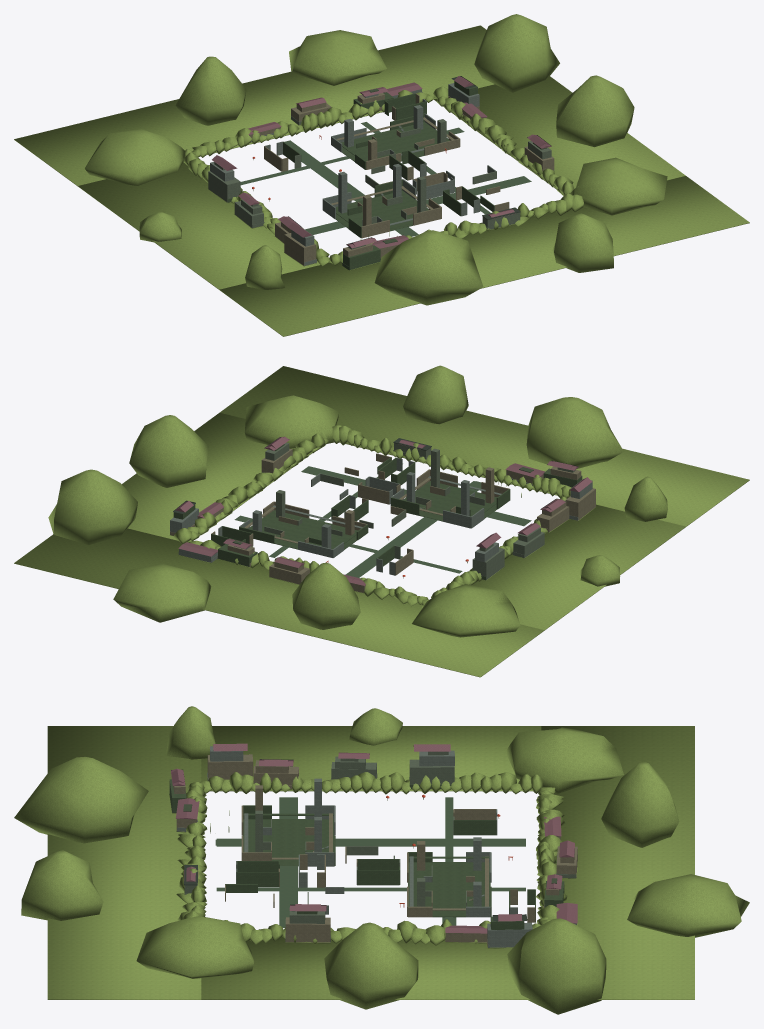
File: chikurin-lod2.glb
3 renders of one model, top to bottom at view 1: azimuth 30°, elevation 25°; view 2: azimuth 150°, elevation 25°; view 3: azimuth 270°, elevation 25°, orthographic. The views are drawn at different scales.
Parts seen in each view (by area): view 1: HB_chikurin_LOD2_terrain, HB_chikurin_LOD2_wall_warm, HB_chikurin_LOD2_wall_weathered, HB_chikurin_LOD2_road, HB_chikurin_LOD2_wall, HB_chikurin_LOD2_roof, HB_chikurin_LOD2_LANDMARK_1_wall_weathered, HB_chikurin_LOD2_wall_cool, HB_chikurin_LOD2_LANDMARK_0_wall_weathered, HB_chikurin_LOD2_LANDMARK_0_wall_warm, HB_chikurin_LOD2_LANDMARK_1_wall_warm, HB_chikurin_LOD2_LANDMARK_0_wall_cool (+2 smaller); view 2: HB_chikurin_LOD2_terrain, HB_chikurin_LOD2_wall_warm, HB_chikurin_LOD2_wall_weathered, HB_chikurin_LOD2_roof, HB_chikurin_LOD2_road, HB_chikurin_LOD2_wall, HB_chikurin_LOD2_LANDMARK_1_wall_weathered, HB_chikurin_LOD2_wall_cool, HB_chikurin_LOD2_LANDMARK_0_wall_weathered, HB_chikurin_LOD2_LANDMARK_0_wall_cool, HB_chikurin_LOD2_LANDMARK_0_wall_warm, HB_chikurin_LOD2_LANDMARK_1_wall_cool (+2 smaller); view 3: HB_chikurin_LOD2_terrain, HB_chikurin_LOD2_wall_warm, HB_chikurin_LOD2_road, HB_chikurin_LOD2_wall_weathered, HB_chikurin_LOD2_roof, HB_chikurin_LOD2_LANDMARK_1_wall_weathered, HB_chikurin_LOD2_LANDMARK_0_wall_weathered, HB_chikurin_LOD2_wall, HB_chikurin_LOD2_wall_cool, HB_chikurin_LOD2_LANDMARK_0_wall_cool, HB_chikurin_LOD2_LANDMARK_1_wall_cool, HB_chikurin_LOD2_LANDMARK_1_wall_warm (+1 smaller).
Part boxes in pixels (x1,y1,x2,y2): HB_chikurin_LOD2_terrain: (14, 14, 749, 336); HB_chikurin_LOD2_wall_warm: (249, 93, 554, 265); HB_chikurin_LOD2_wall_weathered: (227, 81, 546, 270); HB_chikurin_LOD2_road: (240, 122, 531, 236); HB_chikurin_LOD2_wall: (208, 116, 554, 249); HB_chikurin_LOD2_roof: (212, 76, 551, 248); HB_chikurin_LOD2_LANDMARK_1_wall_weathered: (336, 113, 449, 169); HB_chikurin_LOD2_wall_cool: (210, 83, 496, 265); HB_chikurin_LOD2_LANDMARK_0_wall_weathered: (335, 179, 428, 238); HB_chikurin_LOD2_LANDMARK_0_wall_warm: (331, 186, 441, 238); HB_chikurin_LOD2_LANDMARK_1_wall_warm: (336, 117, 460, 169); HB_chikurin_LOD2_LANDMARK_0_wall_cool: (322, 164, 415, 225); HB_chikurin_LOD2_terrain: (14, 365, 749, 677); HB_chikurin_LOD2_wall_warm: (170, 448, 595, 592); HB_chikurin_LOD2_wall_weathered: (173, 444, 582, 580); HB_chikurin_LOD2_roof: (175, 436, 592, 585); HB_chikurin_LOD2_road: (234, 466, 531, 577); HB_chikurin_LOD2_wall: (261, 442, 575, 582); HB_chikurin_LOD2_LANDMARK_1_wall_weathered: (239, 510, 368, 549); HB_chikurin_LOD2_wall_cool: (170, 457, 592, 575); HB_chikurin_LOD2_LANDMARK_0_wall_weathered: (391, 481, 510, 521); HB_chikurin_LOD2_LANDMARK_0_wall_cool: (390, 472, 501, 528); HB_chikurin_LOD2_LANDMARK_0_wall_warm: (399, 467, 509, 515); HB_chikurin_LOD2_LANDMARK_1_wall_cool: (239, 505, 362, 557); HB_chikurin_LOD2_terrain: (14, 706, 749, 1014); HB_chikurin_LOD2_wall_warm: (173, 754, 577, 947); HB_chikurin_LOD2_road: (215, 797, 525, 927); HB_chikurin_LOD2_wall_weathered: (169, 777, 564, 929); HB_chikurin_LOD2_roof: (171, 743, 577, 933); HB_chikurin_LOD2_LANDMARK_1_wall_weathered: (408, 852, 491, 917); HB_chikurin_LOD2_LANDMARK_0_wall_weathered: (242, 805, 335, 866); HB_chikurin_LOD2_wall: (184, 751, 576, 942); HB_chikurin_LOD2_wall_cool: (177, 746, 576, 947); HB_chikurin_LOD2_LANDMARK_0_wall_cool: (244, 778, 335, 866); HB_chikurin_LOD2_LANDMARK_1_wall_cool: (409, 837, 491, 917); HB_chikurin_LOD2_LANDMARK_1_wall_warm: (407, 841, 488, 917).
Bounding box in the file's own units: 583 × 63.8 × 623.
Materials: 11 (11 with a texture image).
